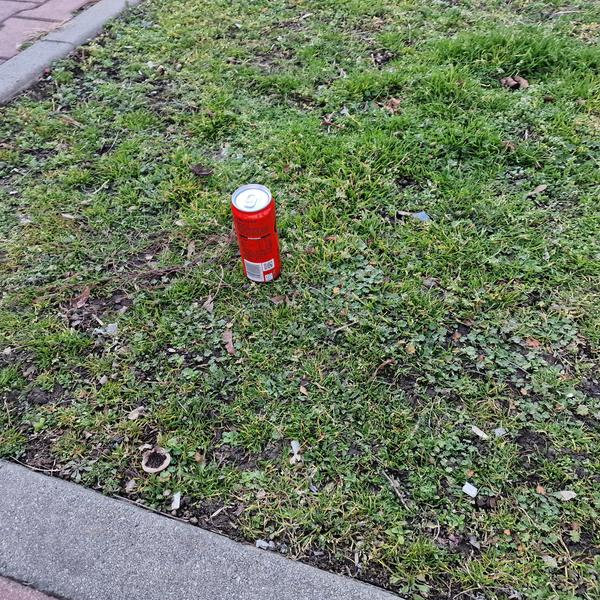can: (228, 181, 286, 287)
